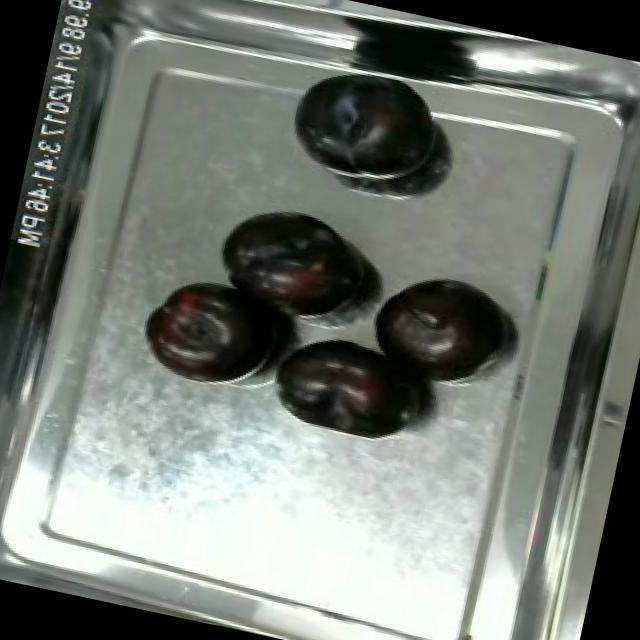Fruit: (277, 54, 453, 196), (206, 192, 380, 332), (132, 262, 294, 400), (264, 320, 432, 444), (362, 260, 514, 390)
